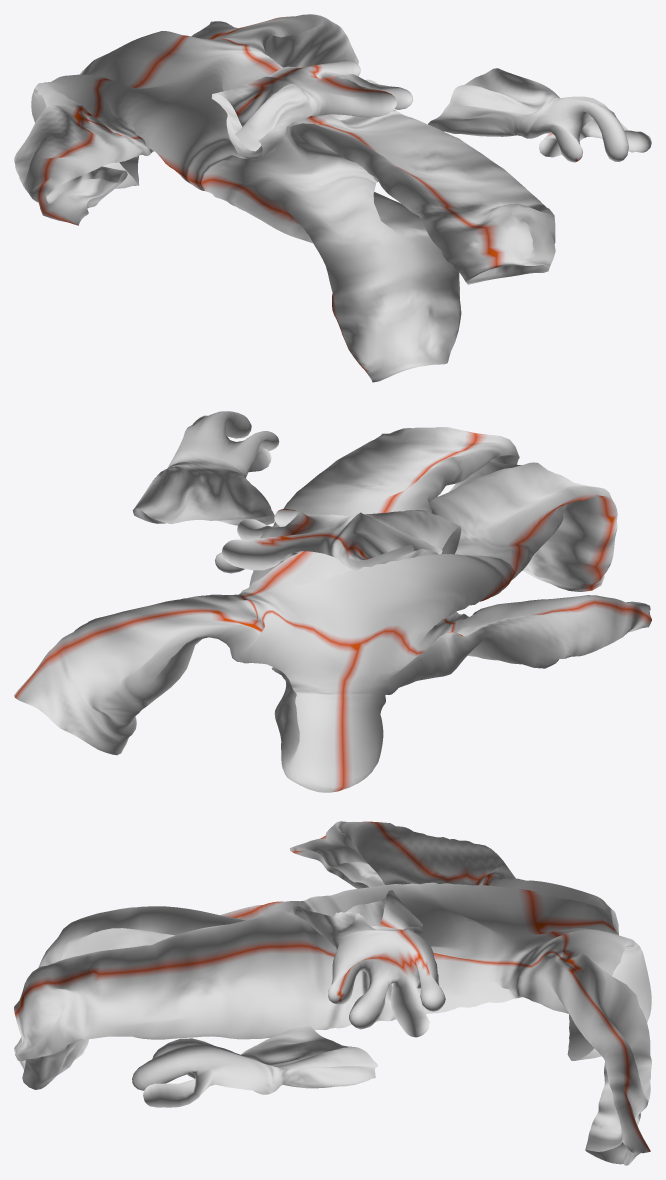
Rendered from EmployeeBelongings_Table.fbx.
3 views of the same model, one above another, from view 1: azimuth 30°, elevation 25°; view 2: azimuth 150°, elevation 25°; view 3: azimuth 270°, elevation 25° (orthographic). The views are drawn at different scales.
Parts seen in each view (by area): view 1: EmployeeBelongings, Gloves; view 2: EmployeeBelongings, Gloves; view 3: EmployeeBelongings, Gloves.
Boxes of the visible parts, x1,y1,x2,y2 form: EmployeeBelongings: [14, 14, 555, 382]; Gloves: [211, 60, 651, 162]; EmployeeBelongings: [14, 427, 651, 792]; Gloves: [132, 411, 461, 573]; EmployeeBelongings: [14, 821, 651, 1165]; Gloves: [132, 890, 445, 1107].
Bounding box in the file's own units: 121 × 38.86 × 122.
